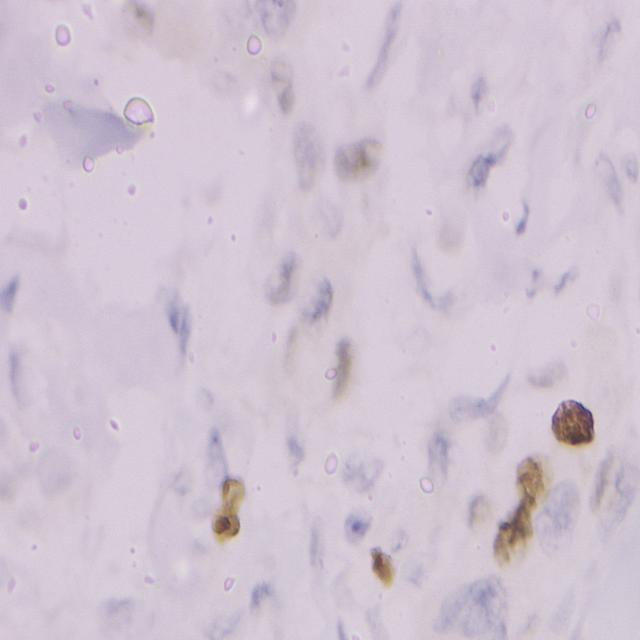Healthy cell: (442, 573, 524, 640), (443, 394, 507, 452), (580, 6, 624, 72), (243, 571, 292, 628), (100, 594, 157, 640), (336, 449, 390, 495), (544, 472, 574, 545), (338, 499, 382, 544), (426, 424, 454, 490), (460, 72, 491, 129), (486, 126, 516, 181), (257, 0, 295, 42), (465, 147, 493, 195)
cancer-cell-QiJm: (209, 468, 255, 552), (592, 450, 637, 528), (260, 249, 314, 312), (335, 130, 387, 191), (327, 333, 369, 408), (489, 502, 534, 567), (266, 49, 306, 121), (512, 450, 544, 526), (436, 208, 476, 266), (554, 393, 594, 449), (122, 0, 165, 52), (292, 122, 320, 188), (306, 276, 341, 328), (282, 320, 310, 384), (529, 356, 567, 402), (367, 543, 402, 592), (462, 492, 496, 538)
